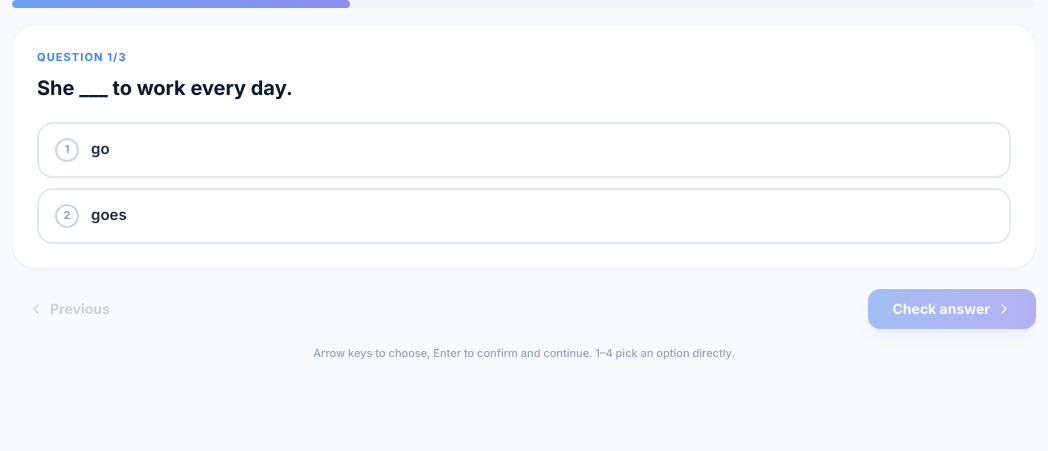
Test: QuizStage — immediate feedback › advances to the next question once the current one is graded
Check: the heading "She ___ to work every day." is shown, box [37, 76, 293, 100]
Click the radio button labelled "2 goes". click: {"x": 109, "y": 215}
box: [37, 188, 1011, 244]
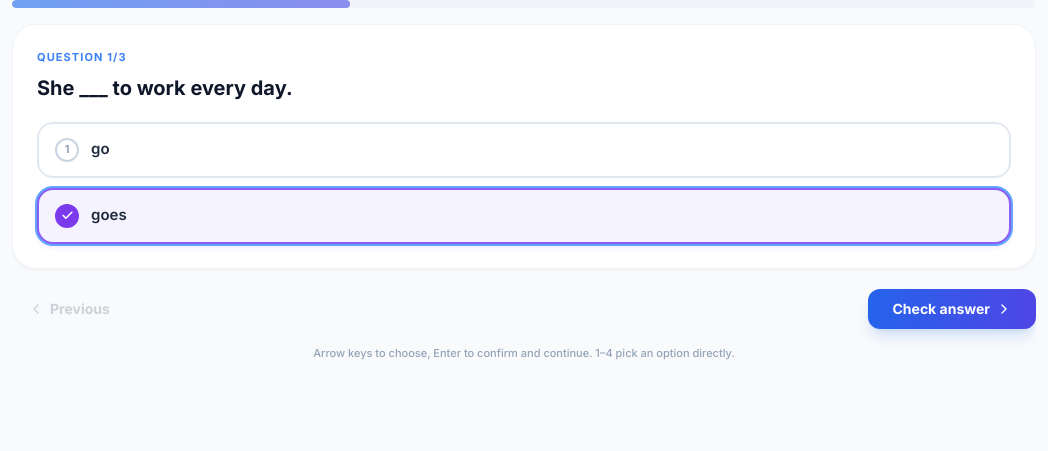
Click the button "Check answer". click: {"x": 952, "y": 308}
box: [868, 288, 1036, 328]
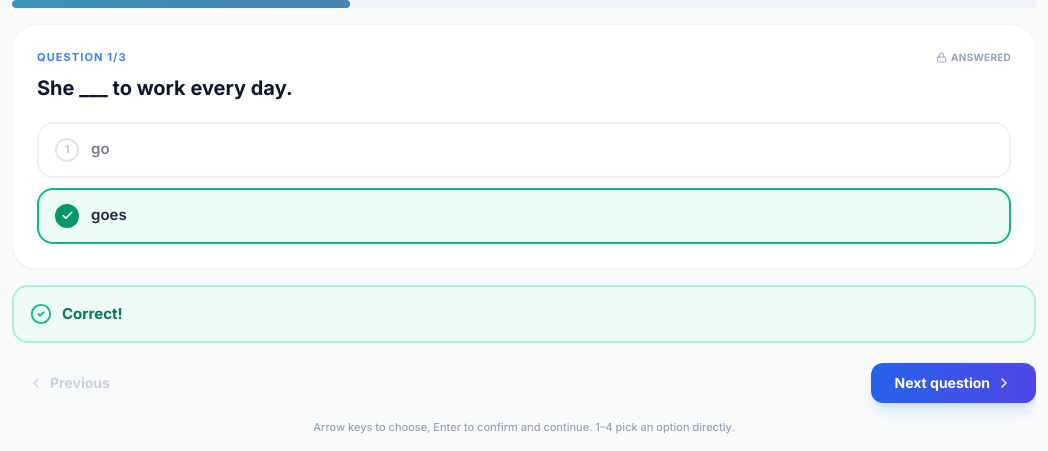
Check: the text "Correct!" is shown, box [62, 302, 123, 325]
Click the button "Next question". click: {"x": 953, "y": 383}
box: [871, 363, 1036, 403]
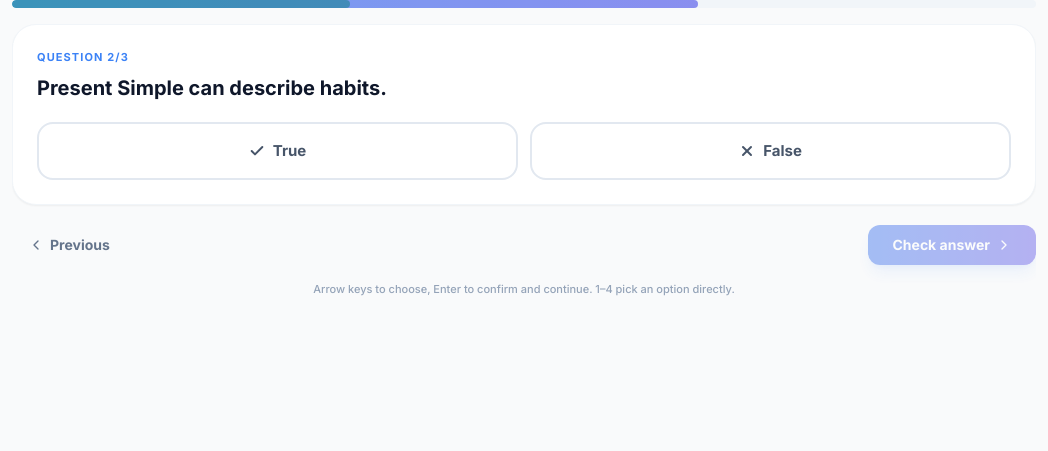
Check: the heading "Present Simple can describe habits." is shown, box [37, 76, 387, 100]
